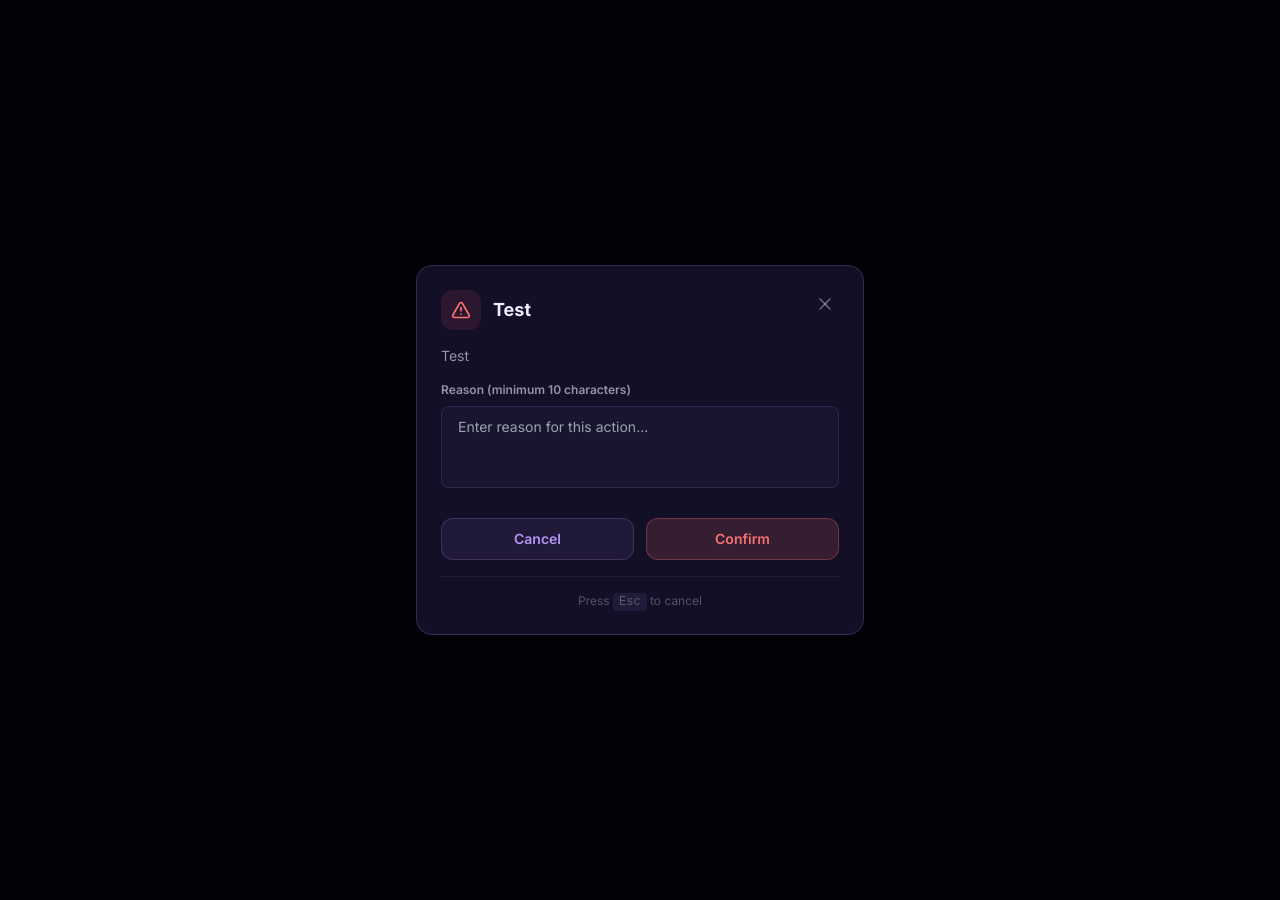
Test: ConfirmationDialog › Validation › should show error when reason is empty and required
The image size is (1280, 900).
Click the button "Confirm": click(742, 539) [646, 518, 839, 560]
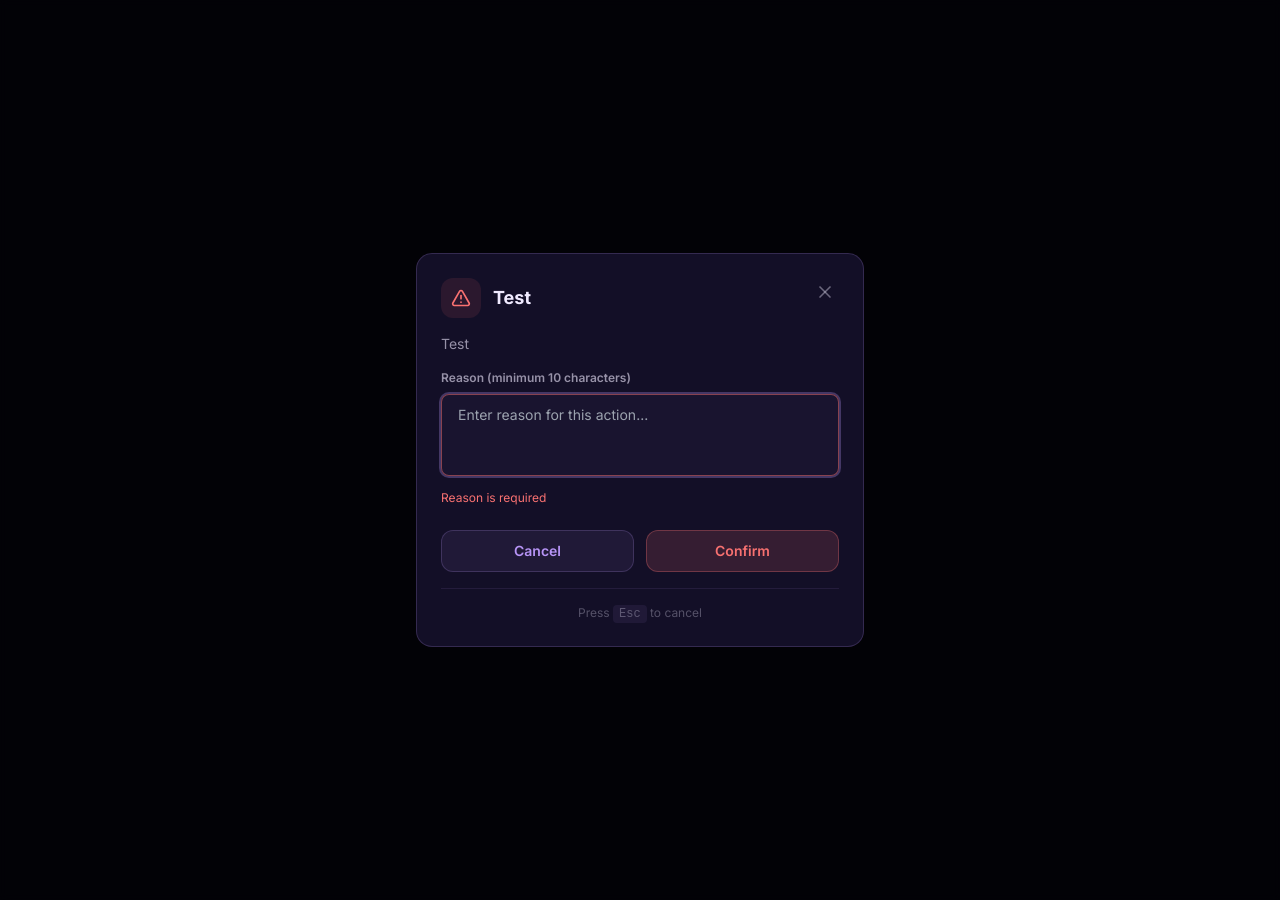
Now the text "Reason is required" is shown, box [441, 490, 546, 505]
